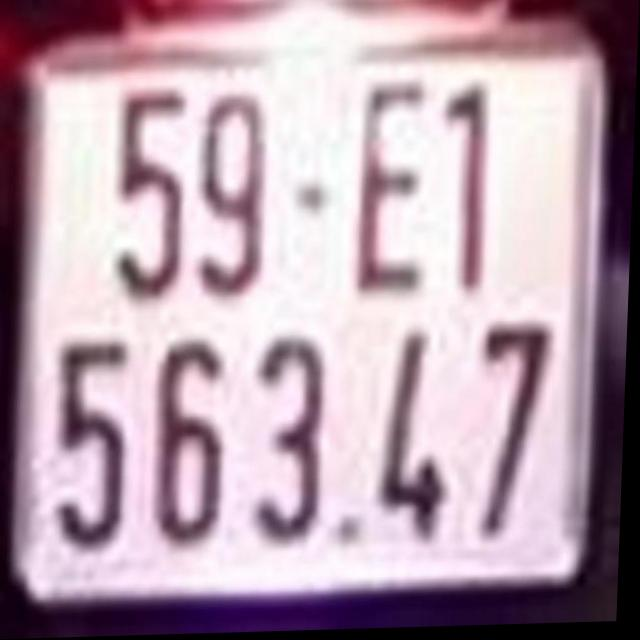1: (441, 88, 495, 293)
3: (255, 343, 331, 542)
4: (384, 335, 456, 544)
5: (56, 343, 134, 545), (116, 93, 188, 294)
6: (156, 342, 231, 539)
7: (484, 326, 555, 539)
9: (198, 94, 266, 297)
E: (358, 87, 432, 296)
